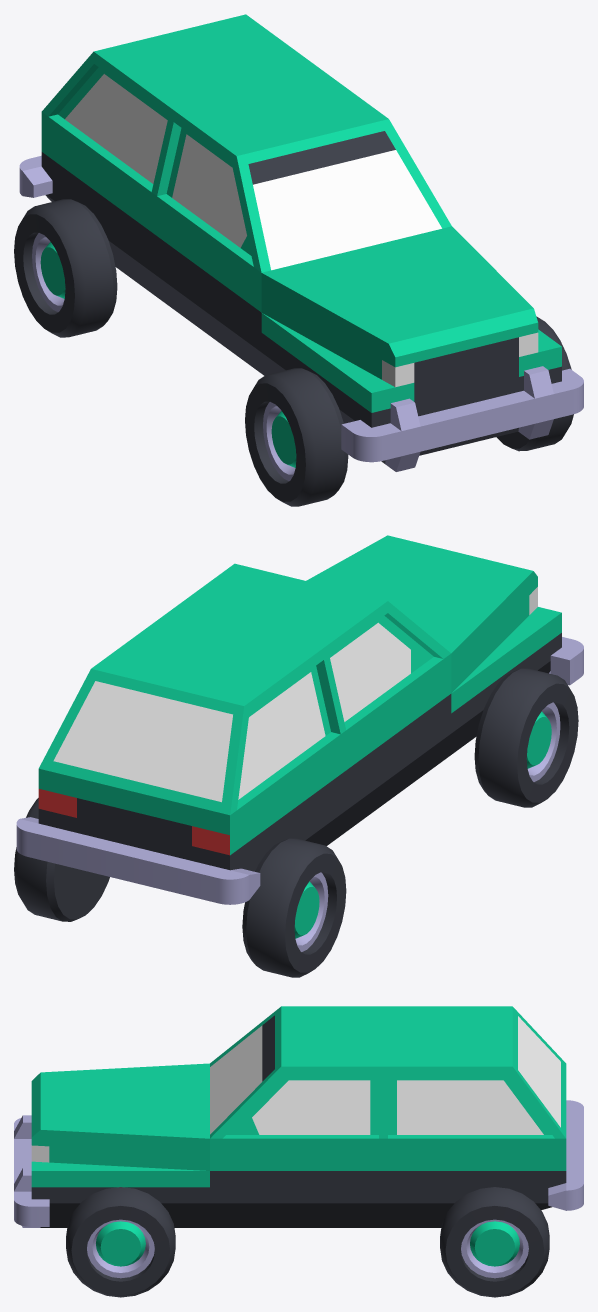
The model's file is car2.fbx.
3 renders of one model, top to bottom at view 1: azimuth 30°, elevation 25°; view 2: azimuth 150°, elevation 25°; view 3: azimuth 270°, elevation 25°, orthographic. The views are drawn at different scales.
Visible parts, largest first — view 1: body_frontTruck, body_topStandard, wheel_classic (×3), body_topBackStation, body_standard, bumper_detailed, body_backSolid, bumper; view 2: body_topBackStation, wheel_classic (×3), body_frontTruck, body_backSolid, body_topStandard, body_standard, bumper, bumper_detailed; view 3: body_frontTruck, body_topBackStation, body_topStandard, wheel_classic (×2), body_standard, body_backSolid, bumper_detailed, bumper.
Boxes of the visible parts, x1,y1,x2,y2 form: body_frontTruck: [261, 226, 561, 463]; body_topStandard: [151, 70, 451, 272]; wheel_classic (×3): [14, 199, 573, 506]; body_topBackStation: [41, 14, 322, 183]; body_standard: [151, 192, 272, 375]; bumper_detailed: [341, 366, 583, 471]; body_backSolid: [41, 112, 170, 306]; bumper: [19, 155, 52, 197]; body_topBackStation: [39, 612, 330, 815]; wheel_classic (×3): [14, 668, 578, 977]; body_frontTruck: [306, 535, 561, 768]; body_backSolid: [38, 732, 340, 871]; body_topStandard: [168, 563, 450, 734]; body_standard: [324, 654, 451, 845]; bumper: [16, 817, 260, 904]; bumper_detailed: [549, 637, 583, 685]; body_frontTruck: [31, 1063, 209, 1227]; body_topBackStation: [388, 1006, 566, 1138]; body_topStandard: [210, 1006, 387, 1138]; wheel_classic (×2): [66, 1187, 549, 1297]; body_standard: [210, 1135, 387, 1227]; body_backSolid: [388, 1135, 566, 1227]; bumper_detailed: [14, 1115, 49, 1227]; bumper: [548, 1100, 583, 1210].
Bounding box in the file's own units: 14.16 × 13.08 × 32.
